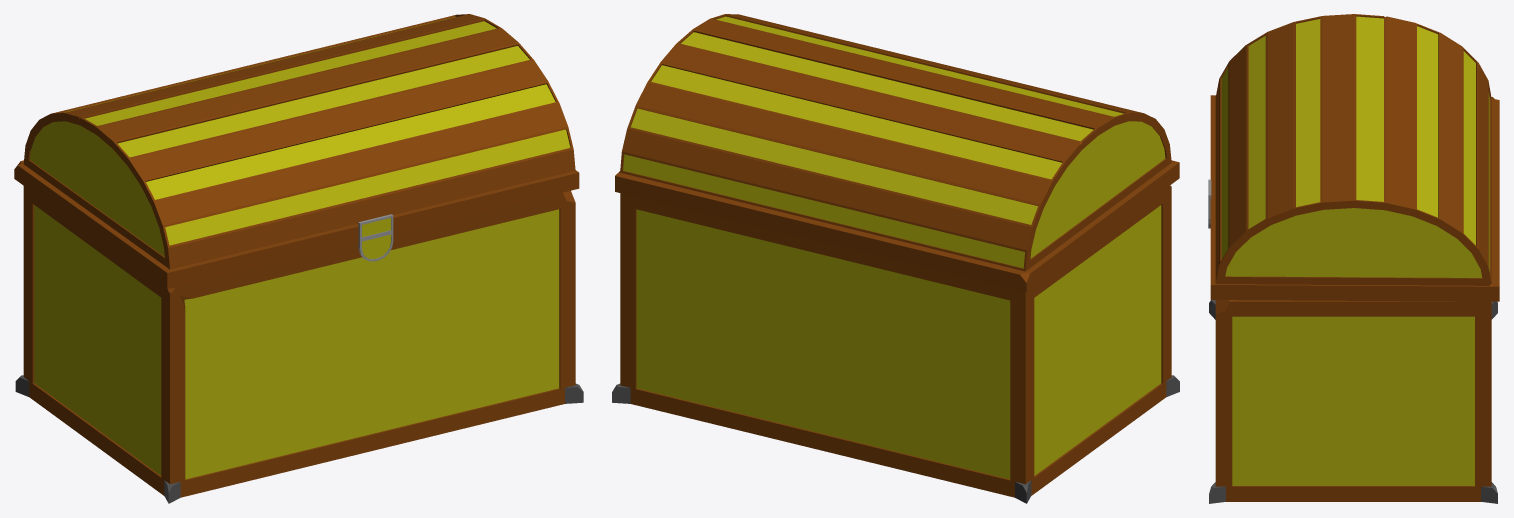
File: Chest.fbx
3 renders of one model, left to right at view 1: azimuth 30°, elevation 25°; view 2: azimuth 150°, elevation 25°; view 3: azimuth 270°, elevation 25°, orthographic. The views are drawn at different scales.
Visible parts, largest first — view 1: Box, Lid, Feet; view 2: Box, Lid, Feet; view 3: Lid, Box, Feet.
Part boxes in pixels (left/top/right/bottom): Box: left=23, top=186, right=575, bottom=497; Lid: left=14, top=14, right=579, bottom=288; Feet: left=15, top=375, right=583, bottom=503; Box: left=620, top=185, right=1171, bottom=497; Lid: left=615, top=14, right=1179, bottom=292; Feet: left=612, top=375, right=1179, bottom=503; Lid: left=1208, top=14, right=1499, bottom=301; Box: left=1215, top=300, right=1491, bottom=501; Feet: left=1209, top=300, right=1497, bottom=503.
Size of the model in its own units: 164 by 120 by 106.
